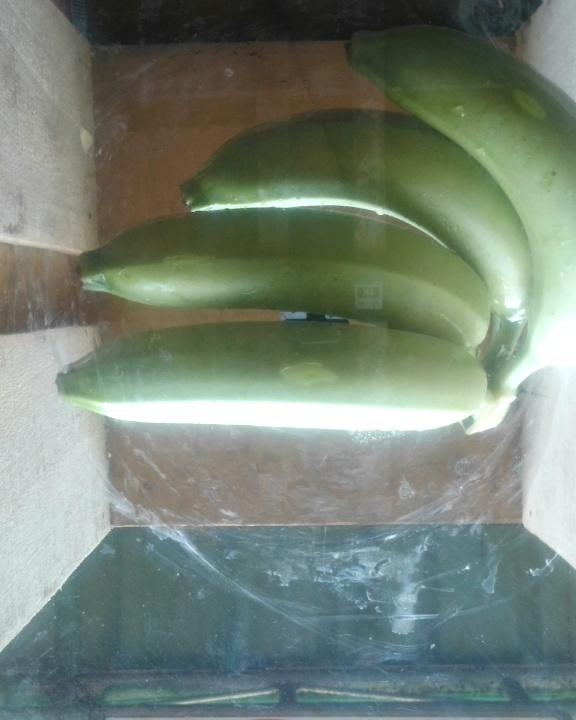SPOT: (51, 22, 576, 447)
